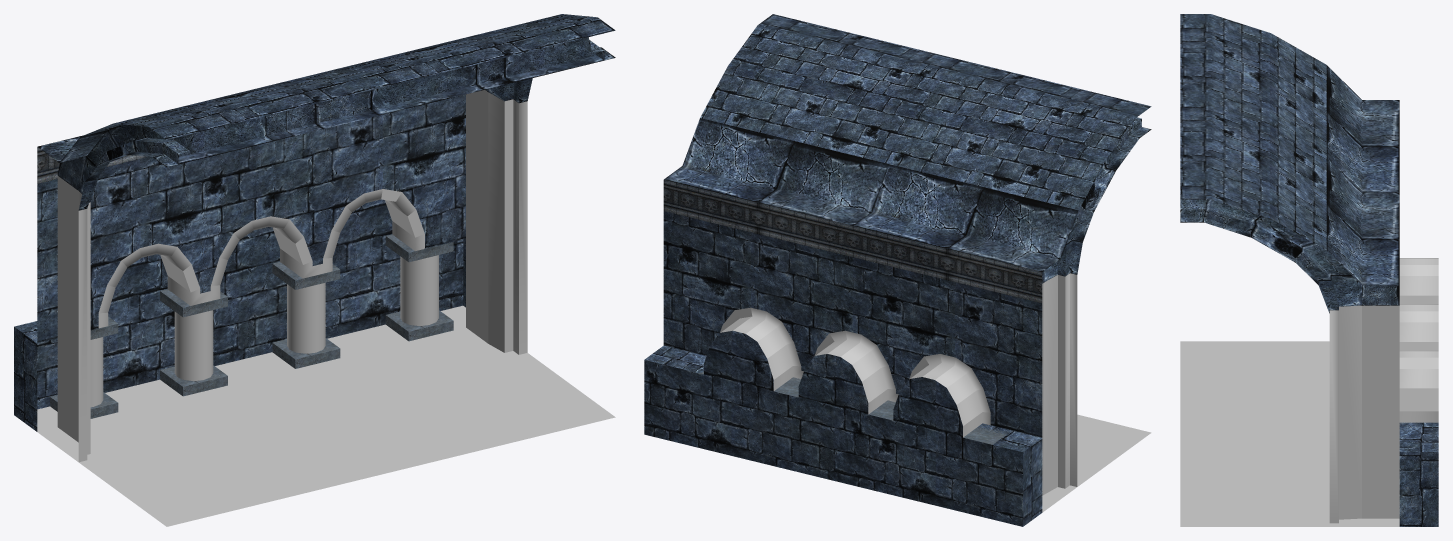
File: Wall_var1.FBX
3 views of the same model, side by side, from view 1: azimuth 30°, elevation 25°; view 2: azimuth 150°, elevation 25°; view 3: azimuth 270°, elevation 25° (orthographic). The views are drawn at different scales.
Parts seen in each view (by area): view 1: wall_1; view 2: wall_1; view 3: wall_1.
Boxes of the visible parts, x1,y1,x2,y2 form: wall_1: (14,14,615,526); wall_1: (644,14,1151,526); wall_1: (1180,14,1438,526).
Bounding box in the file's own units: 91.85 × 75.6 × 54.11.
